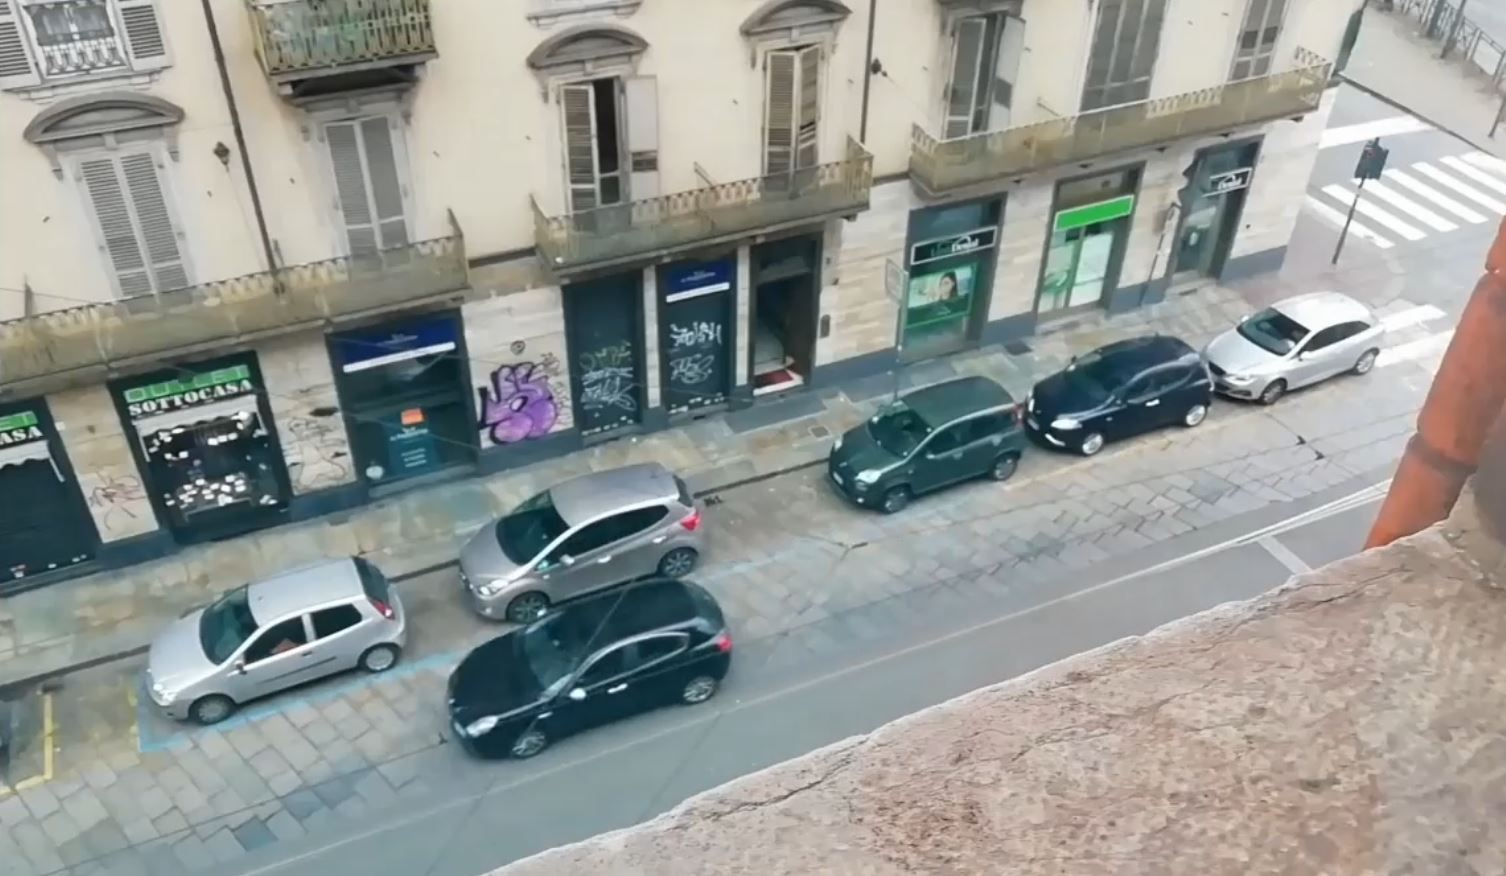car: (446, 582, 733, 758), (145, 558, 405, 728), (457, 463, 703, 624), (828, 378, 1025, 518), (1024, 334, 1215, 457), (1200, 292, 1382, 406)
